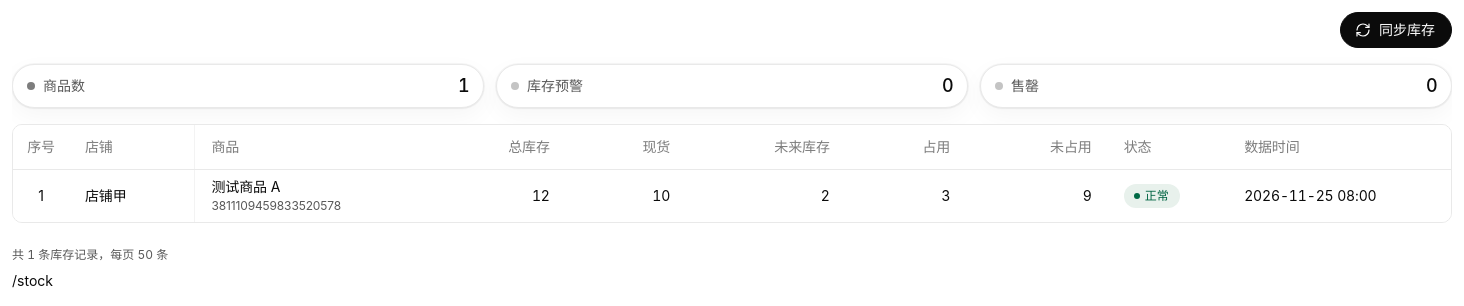
Test case: 库存聚合页 › 点计数卡筛列表：预警卡带 quick=alarm 发给后端，再点清除，换卡直接换筛选
Expected: the row "3811109459833520578" is shown, [13, 170, 1451, 222]
Click the button "库存预警 0" at [555, 86], box [496, 64, 968, 108]
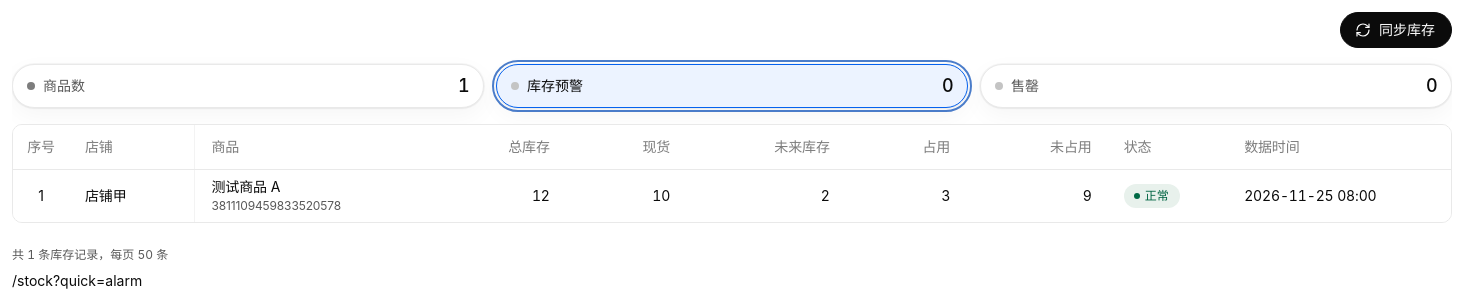
Expected: the text with test id "where" shows "quick=alarm", [12, 272, 142, 289]
Click the button "库存预警 0" at [555, 86], box [496, 64, 968, 108]
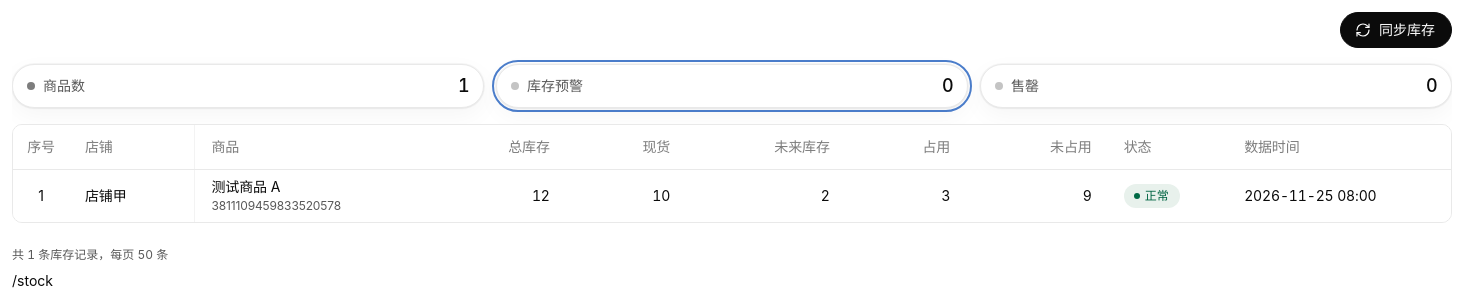
Expected: the text with test id "where" does not show "quick=", [12, 272, 53, 289]
Click the button "售罄 0" at [999, 86], box [980, 64, 1452, 108]
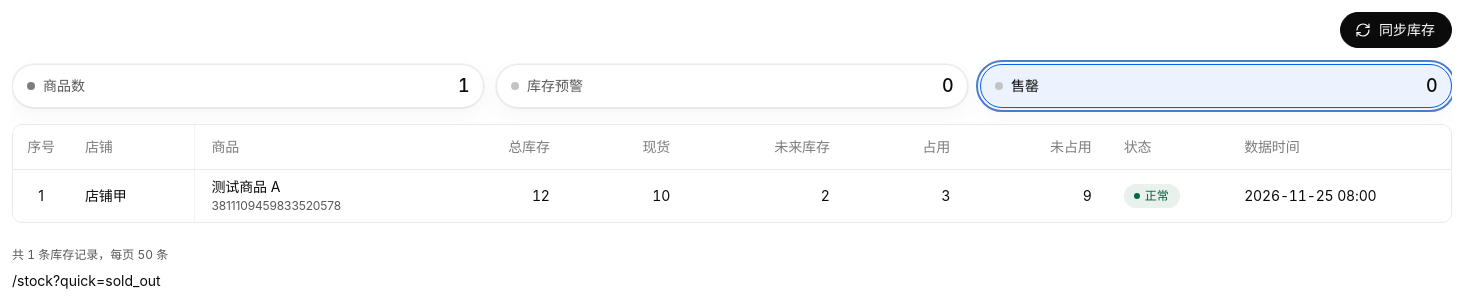
Expected: the text with test id "where" shows "quick=sold_out", [12, 272, 161, 289]
Click the button "库存预警 0" at [555, 86], box [496, 64, 968, 108]
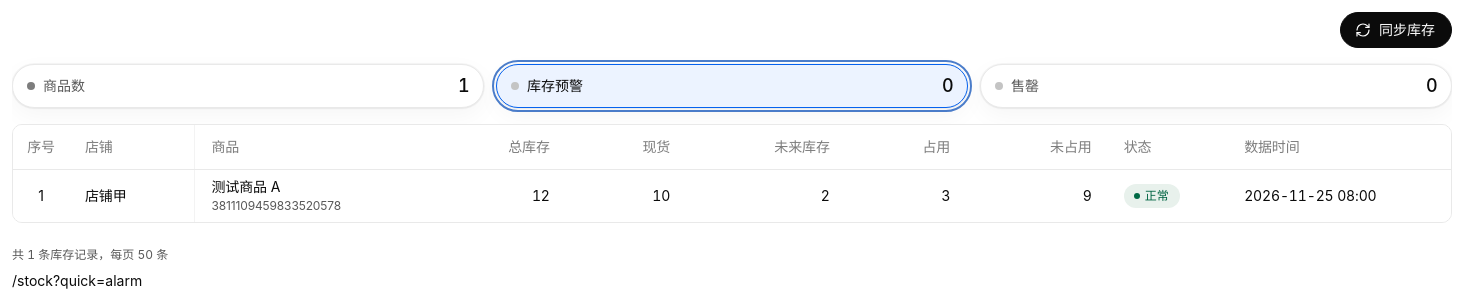
Expected: the text with test id "where" shows "quick=alarm", [12, 272, 142, 289]
